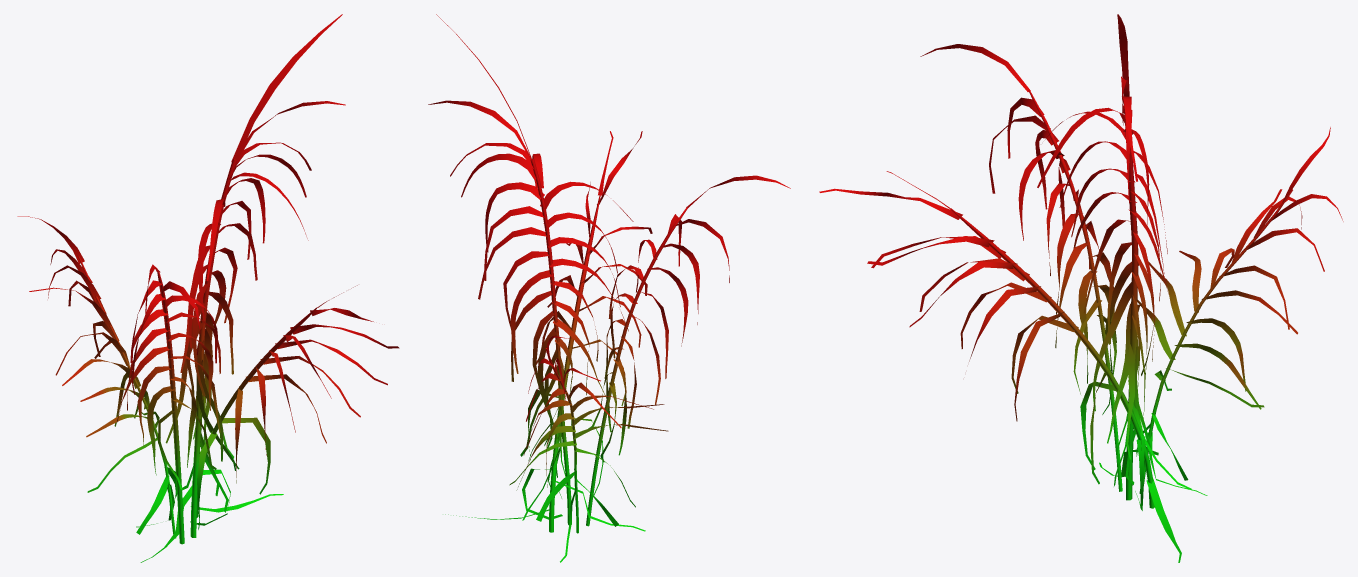
File: Giant Reed_LOD1_Var2_sjllX.fbx
The picture shows the model from 3 angles, left to right: view 1: azimuth 30°, elevation 25°; view 2: azimuth 150°, elevation 25°; view 3: azimuth 270°, elevation 25°; orthographic projection. The views are drawn at different scales.
Parts seen in each view (by area): view 1: _5570_Var2_LOD1; view 2: _5570_Var2_LOD1; view 3: _5570_Var2_LOD1.
Boxes of the visible parts, x1,y1,x2,y2 form: _5570_Var2_LOD1: (17, 14, 399, 562); _5570_Var2_LOD1: (428, 14, 790, 562); _5570_Var2_LOD1: (819, 14, 1343, 562).
Size of the model in its own units: 124 by 205 by 169.
